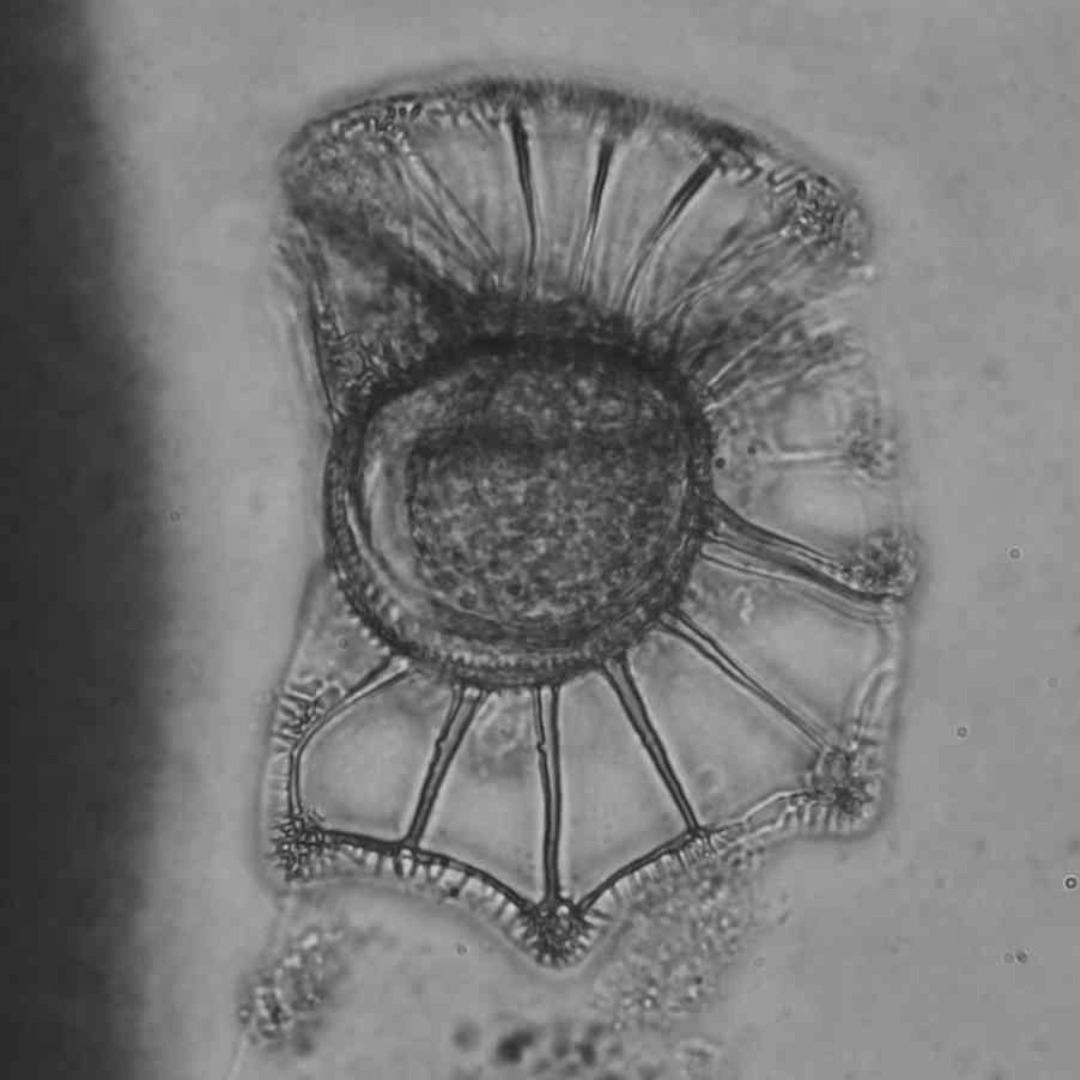ornithocercus_thumii: (270, 81, 913, 973)
